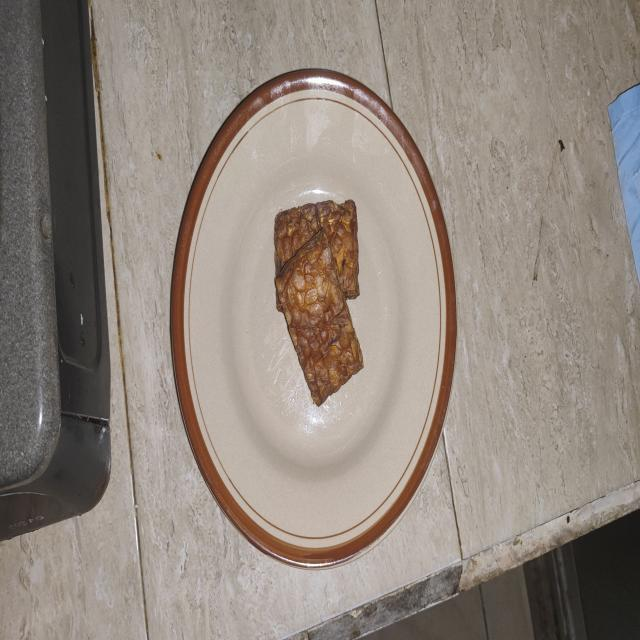tempe_goreng: (276, 228, 364, 406), (274, 200, 359, 299)
